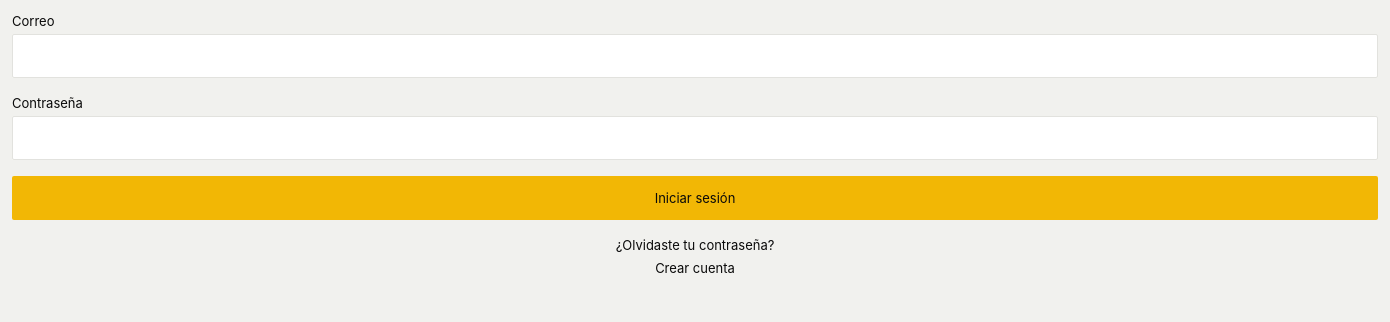
Scenario: CustomerLoginForm › surfaces the backend's error message without navigating on invalid credentials
The width and height of the screenshot is (1390, 322).
In the field labelled "Correo": [695, 56] box [12,34,1378,78], type "cliente@example.com"
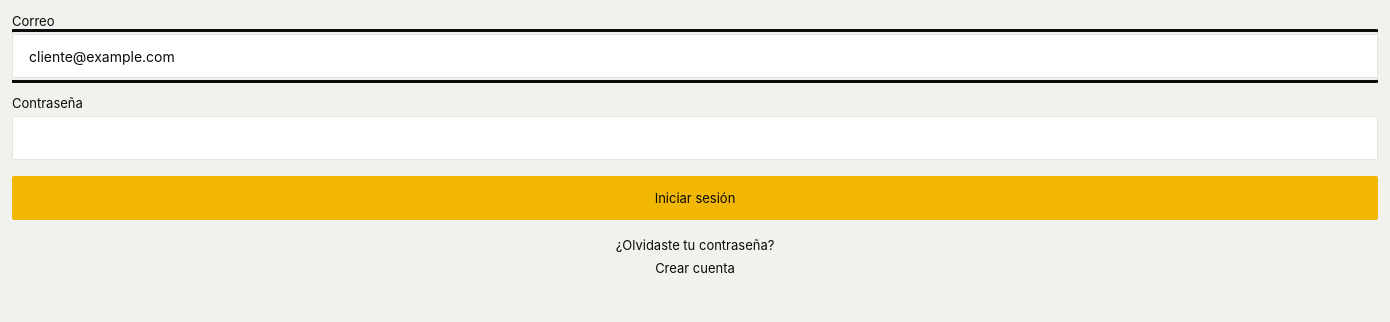
In the password field labelled "Contraseña": [695, 138] box [12,116,1378,160], type "supersecreta"
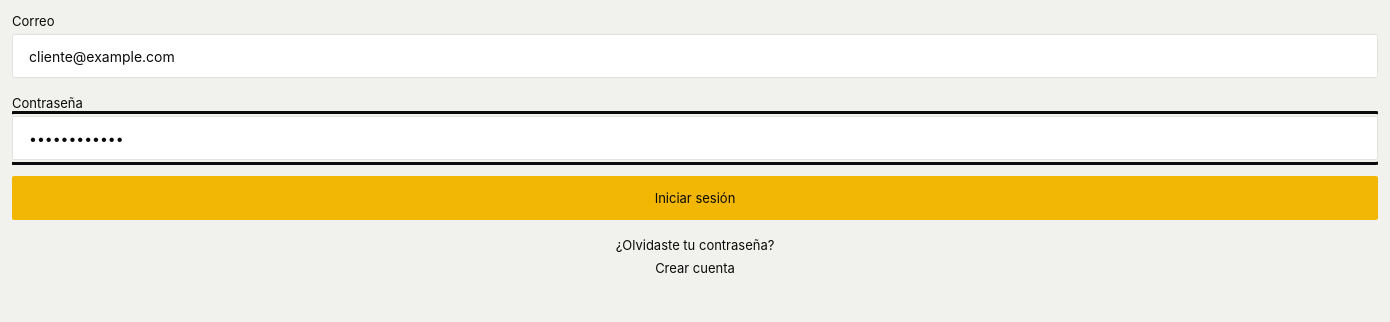
Click the button named "Iniciar sesión": [695, 198] box [12,176,1378,220]
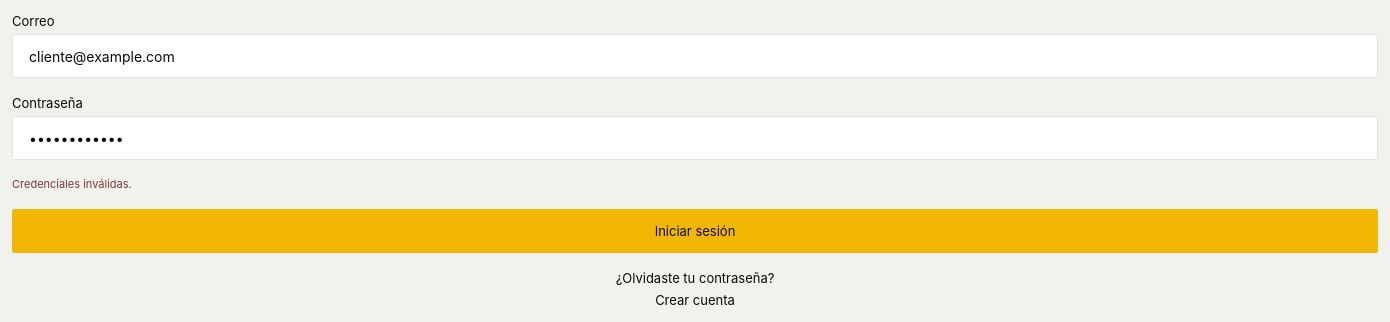
expect the text "Credenciales inválidas." is shown: met, box [12,177,132,191]
